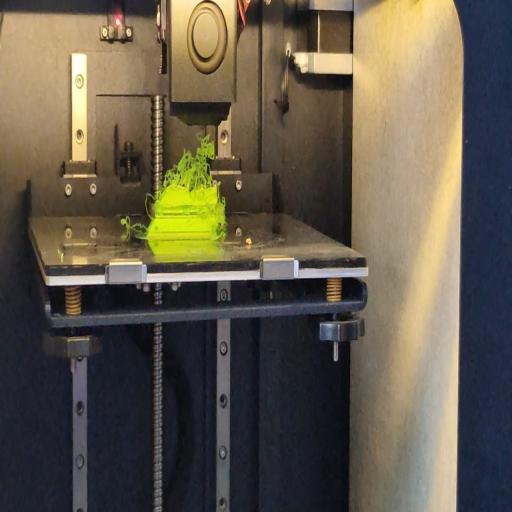spaghetti: (163, 134, 221, 193), (120, 216, 146, 234), (144, 189, 154, 220), (219, 228, 226, 240)
